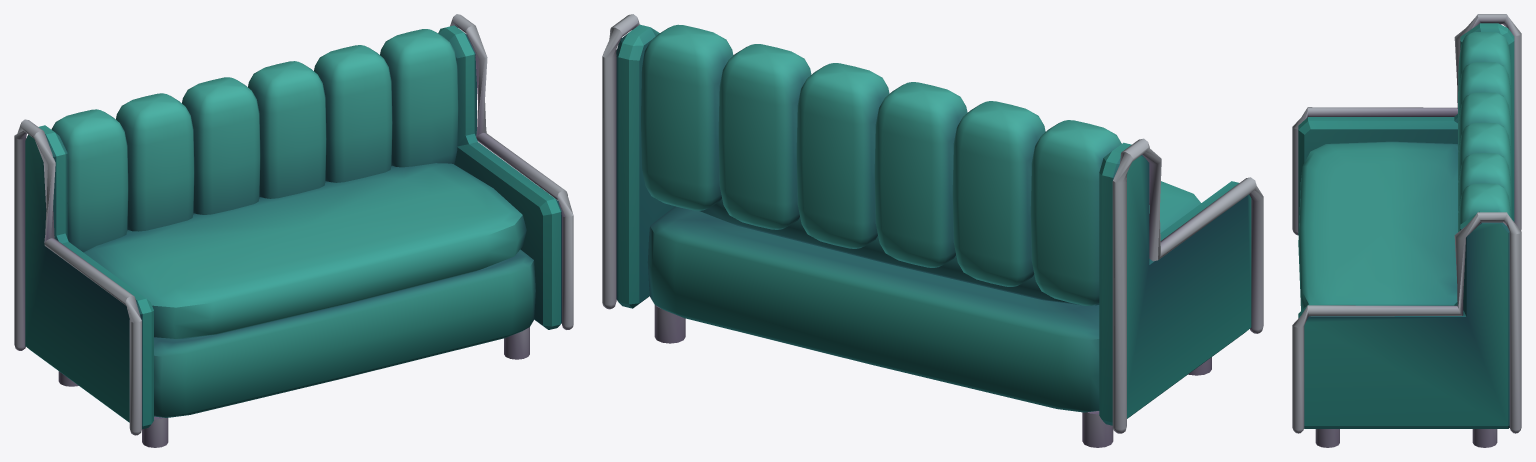
Rendered from sofa_retro.glb.
3 views of the same model, side by side, from view 1: azimuth 30°, elevation 25°; view 2: azimuth 150°, elevation 25°; view 3: azimuth 270°, elevation 25° (orthographic). The views are drawn at different scales.
Visible parts, largest first — view 1: sofa_retro; view 2: sofa_retro; view 3: sofa_retro.
Part boxes in pixels (x1,y1,x2,y2): sofa_retro: (14,14,573,447); sofa_retro: (602,14,1263,447); sofa_retro: (1292,14,1521,447).
Size of the model in its own units: 1.96 by 1.11 by 0.933.
